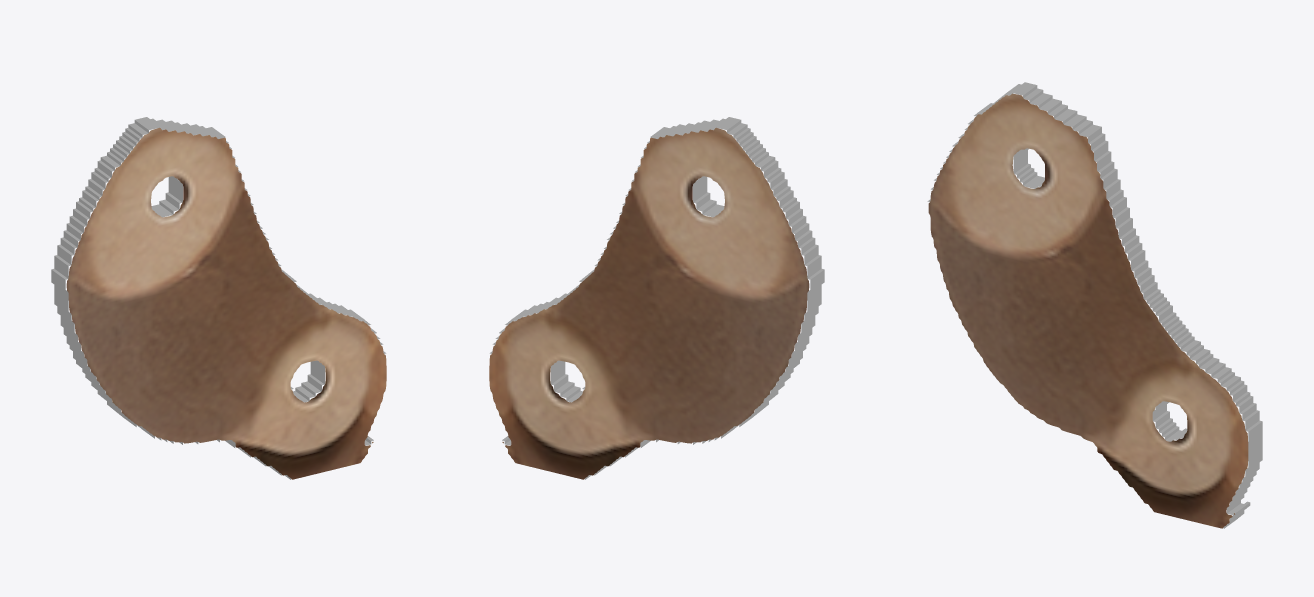
File: Variant03Upper.glb
The picture shows the model from 3 angles, left to right: view 1: azimuth 30°, elevation 25°; view 2: azimuth 150°, elevation 25°; view 3: azimuth 330°, elevation 25°; orthographic projection.
Visible parts, largest first — view 1: PaperVolume; view 2: PaperVolume; view 3: PaperVolume.
Part boxes in pixels (x1,y1,x2,y2): PaperVolume: (51, 117, 386, 479); PaperVolume: (489, 117, 824, 479); PaperVolume: (927, 82, 1262, 528).
Bounding box in the file's own units: 1.28 × 1.43 × 0.08.
3 materials, 2 textured.
